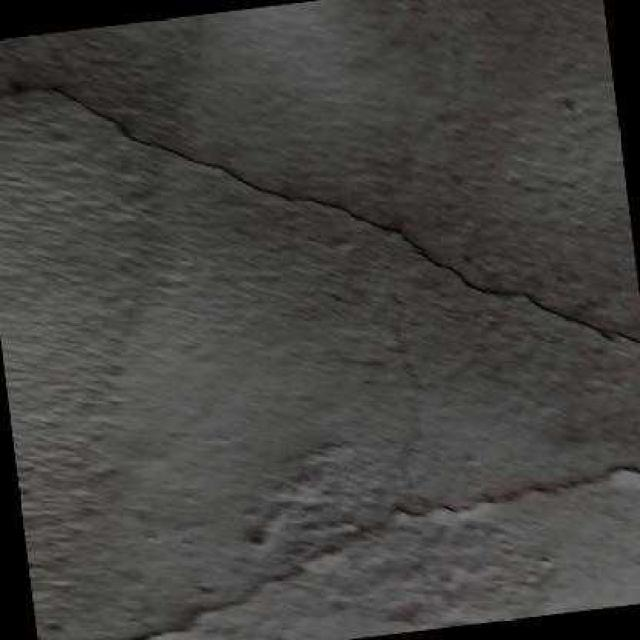D00: (0, 79, 640, 345)
